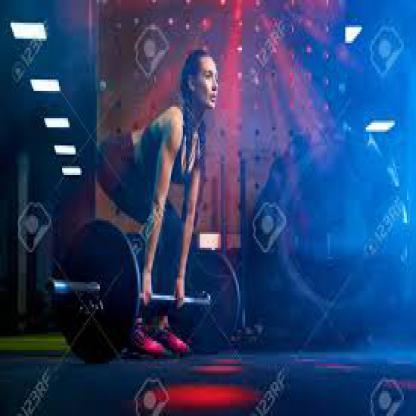barbell: (47, 219, 242, 365)
